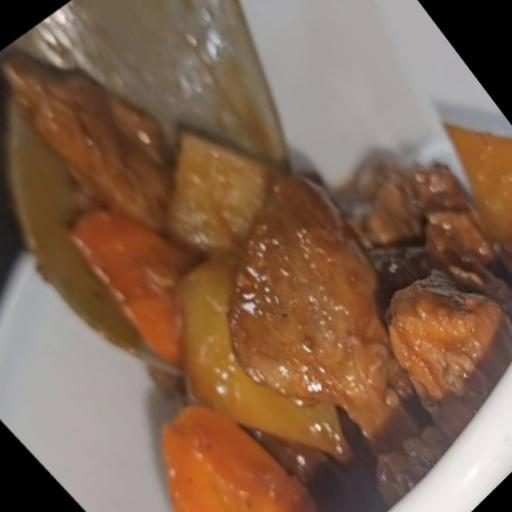pork caldereta: (16, 60, 511, 511)
